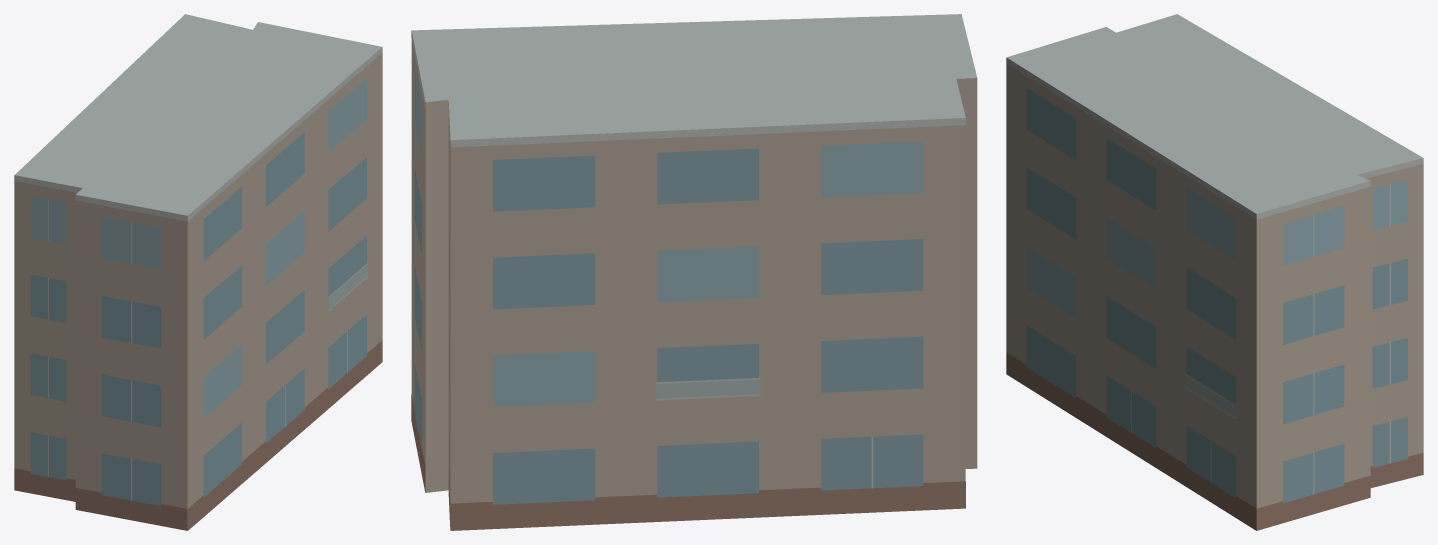
Rendered from survey-upis-32982829.glb.
3 renders of one model, left to right at view 1: azimuth 30°, elevation 25°; view 2: azimuth 150°, elevation 25°; view 3: azimuth 270°, elevation 25°, orthographic. The views are drawn at different scales.
Visible parts, largest first — view 1: survey-upis-32982829.tmp; view 2: survey-upis-32982829.tmp; view 3: survey-upis-32982829.tmp.
Boxes of the visible parts, <box> form: survey-upis-32982829.tmp: <box>14,14,382,530</box>; survey-upis-32982829.tmp: <box>411,14,977,530</box>; survey-upis-32982829.tmp: <box>1006,14,1423,530</box>.
Bounding box in the file's own units: 17.88 × 13.2 × 15.75.
